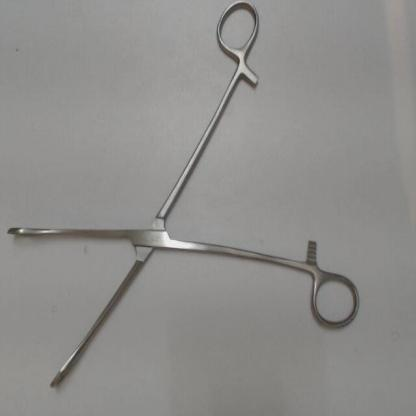Sponge Forceps: (2, 2, 364, 400)
